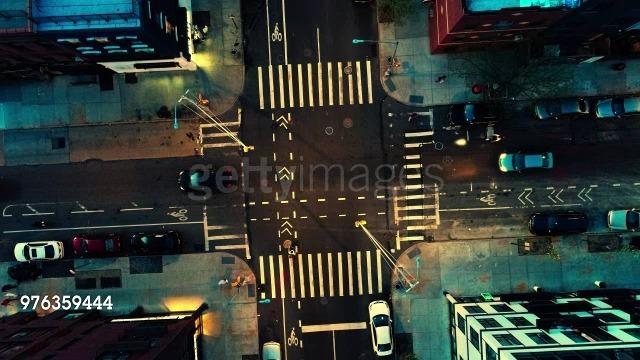car: (366, 297, 400, 357), (497, 152, 559, 178), (175, 167, 235, 191), (529, 96, 593, 118), (446, 103, 506, 126), (528, 212, 590, 234), (70, 232, 126, 256), (12, 240, 66, 264), (127, 231, 185, 253), (592, 99, 640, 117), (606, 209, 640, 231), (258, 338, 286, 360)
